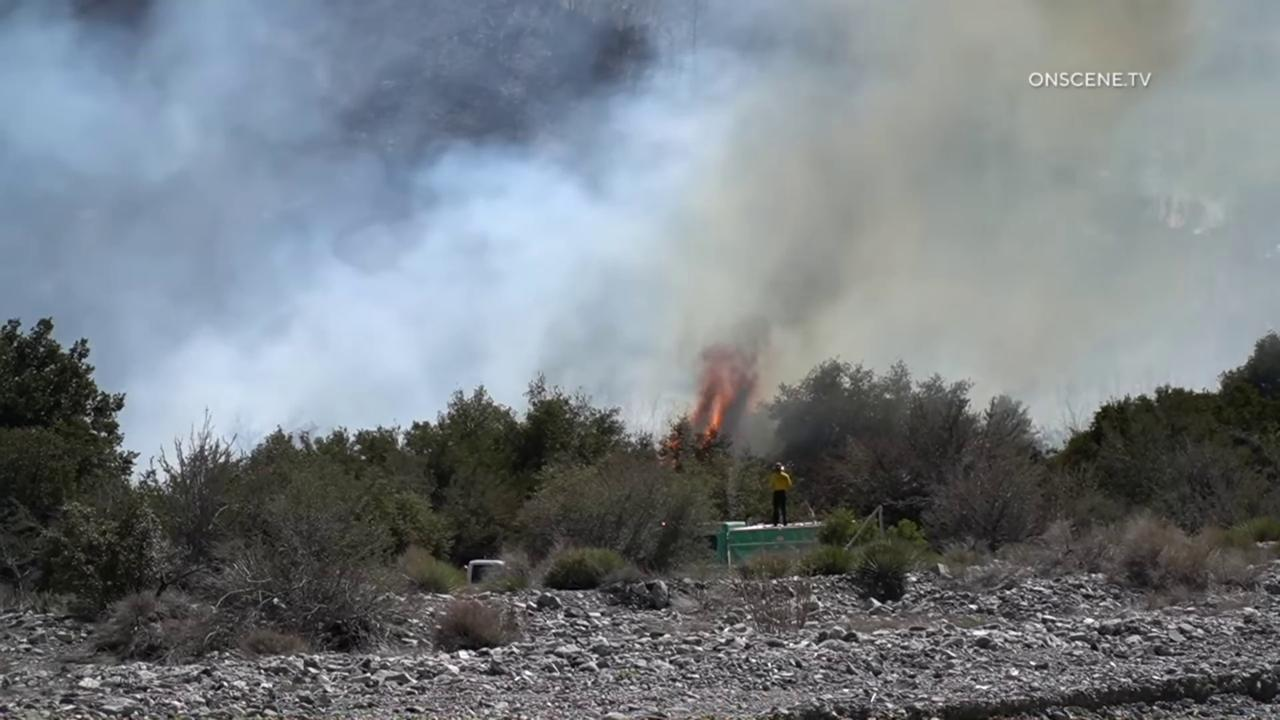fire: (704, 395, 723, 445)
smoke: (0, 0, 1280, 508)
